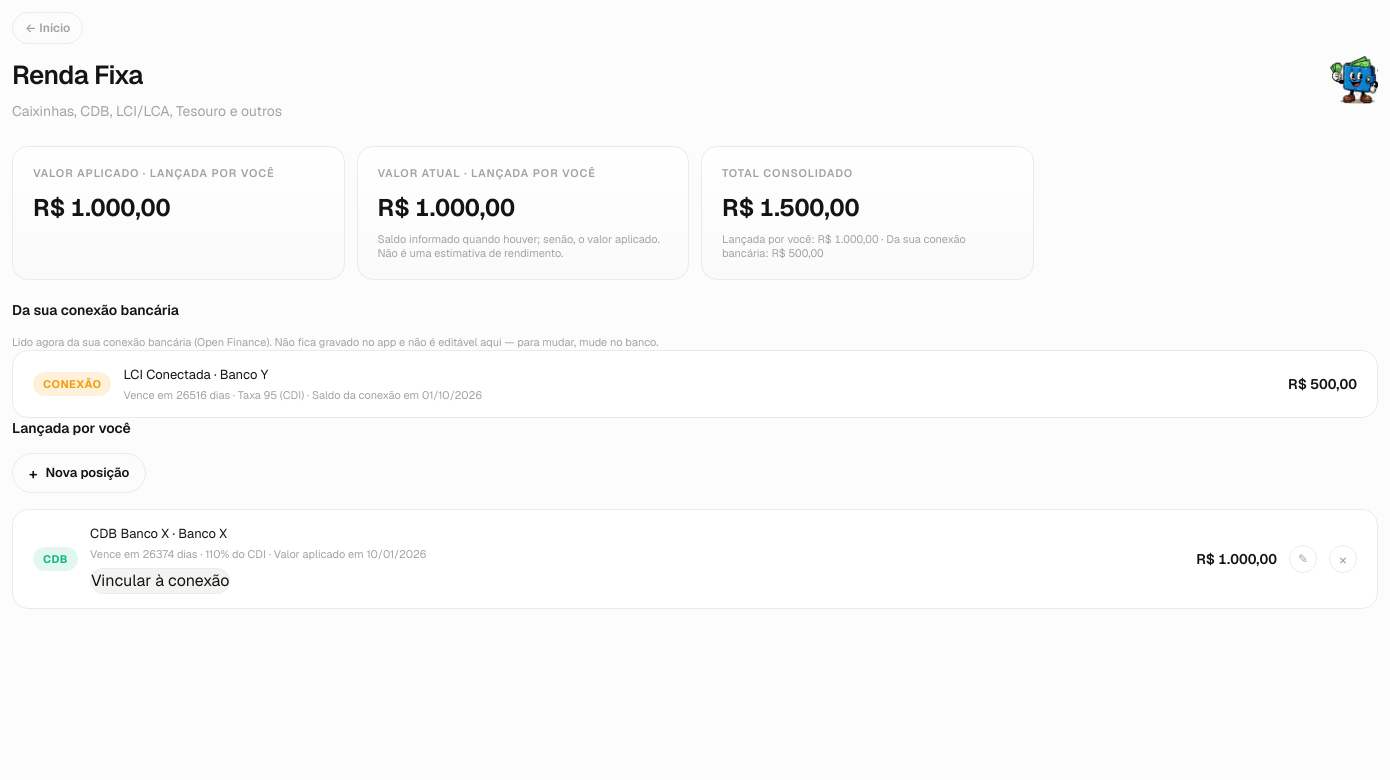
Test: RendaFixaPage — vínculo manual↔conexão (T-091d, fatia d3b) › vincular e cancelar não grava nada
Click the button "Vincular à conexão": [160, 581] box [90,568,230,594]
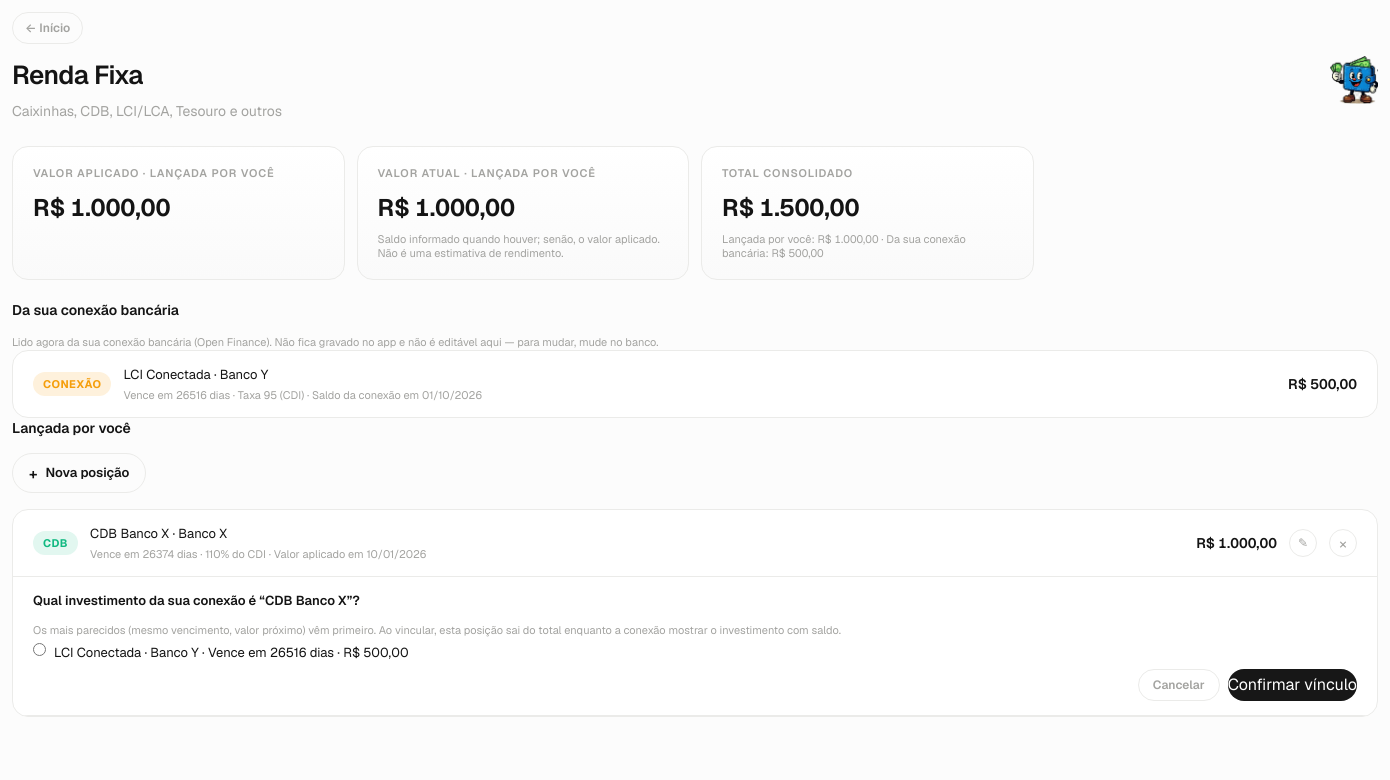
Click the radio button: [40, 650] box [33,643,46,656]
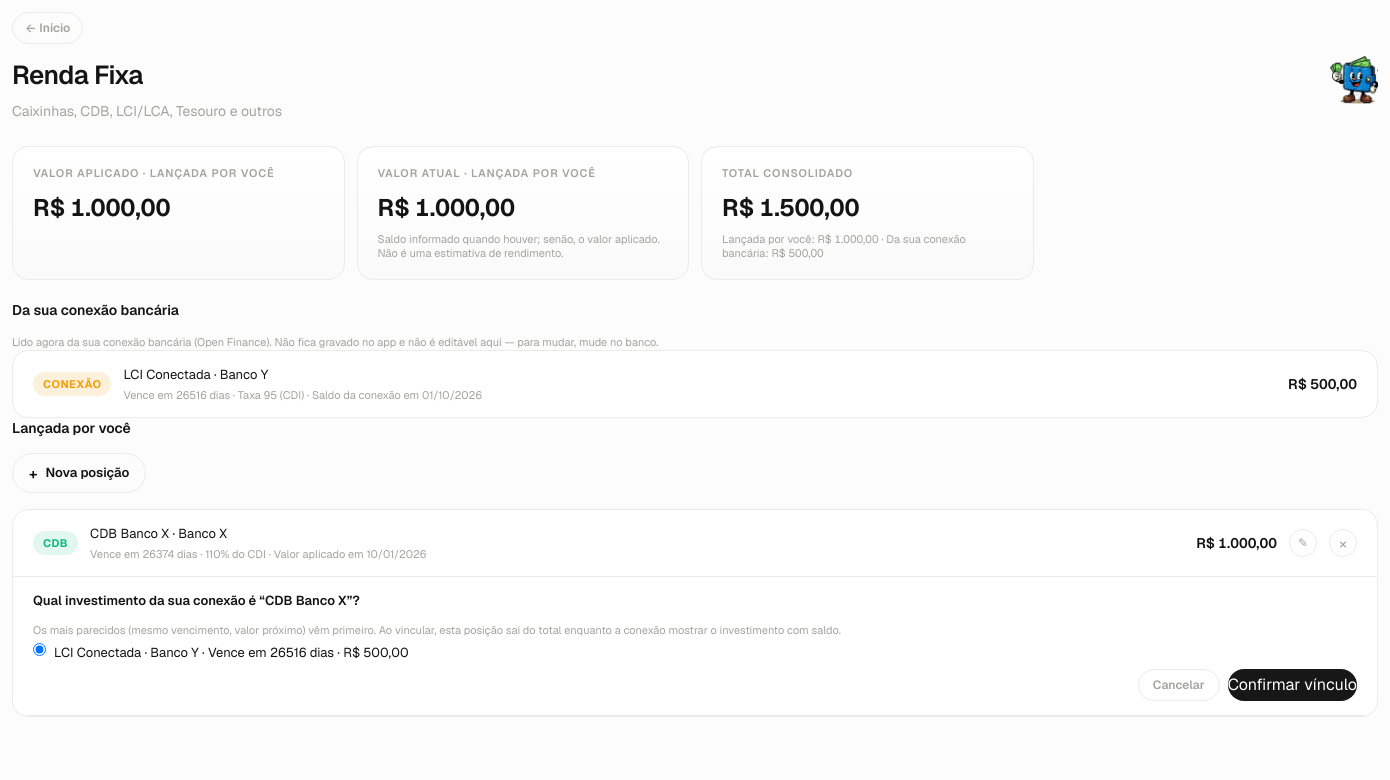
Click the button "Cancelar": [1179, 685] box [1138,669,1220,701]
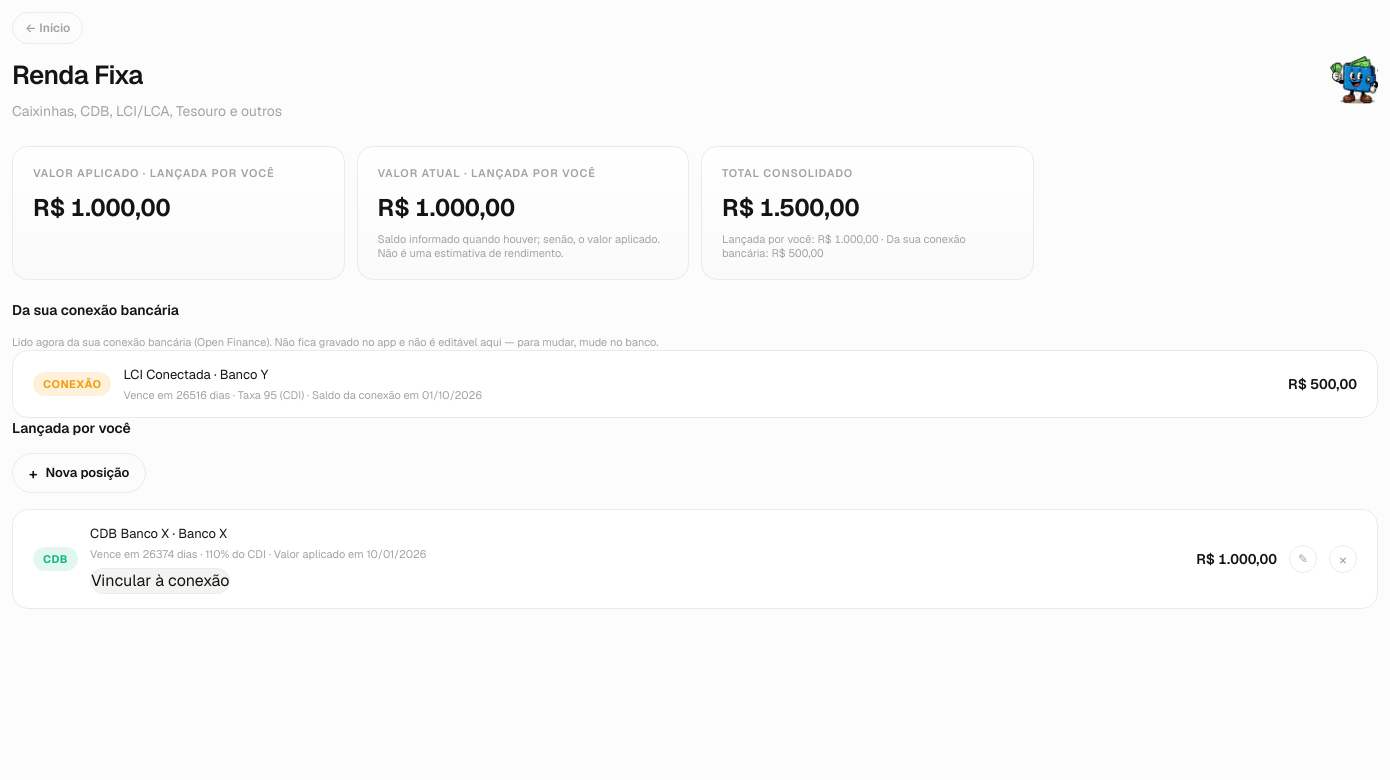
expect the element with test id "fi-link-picker-1" is gone: met
